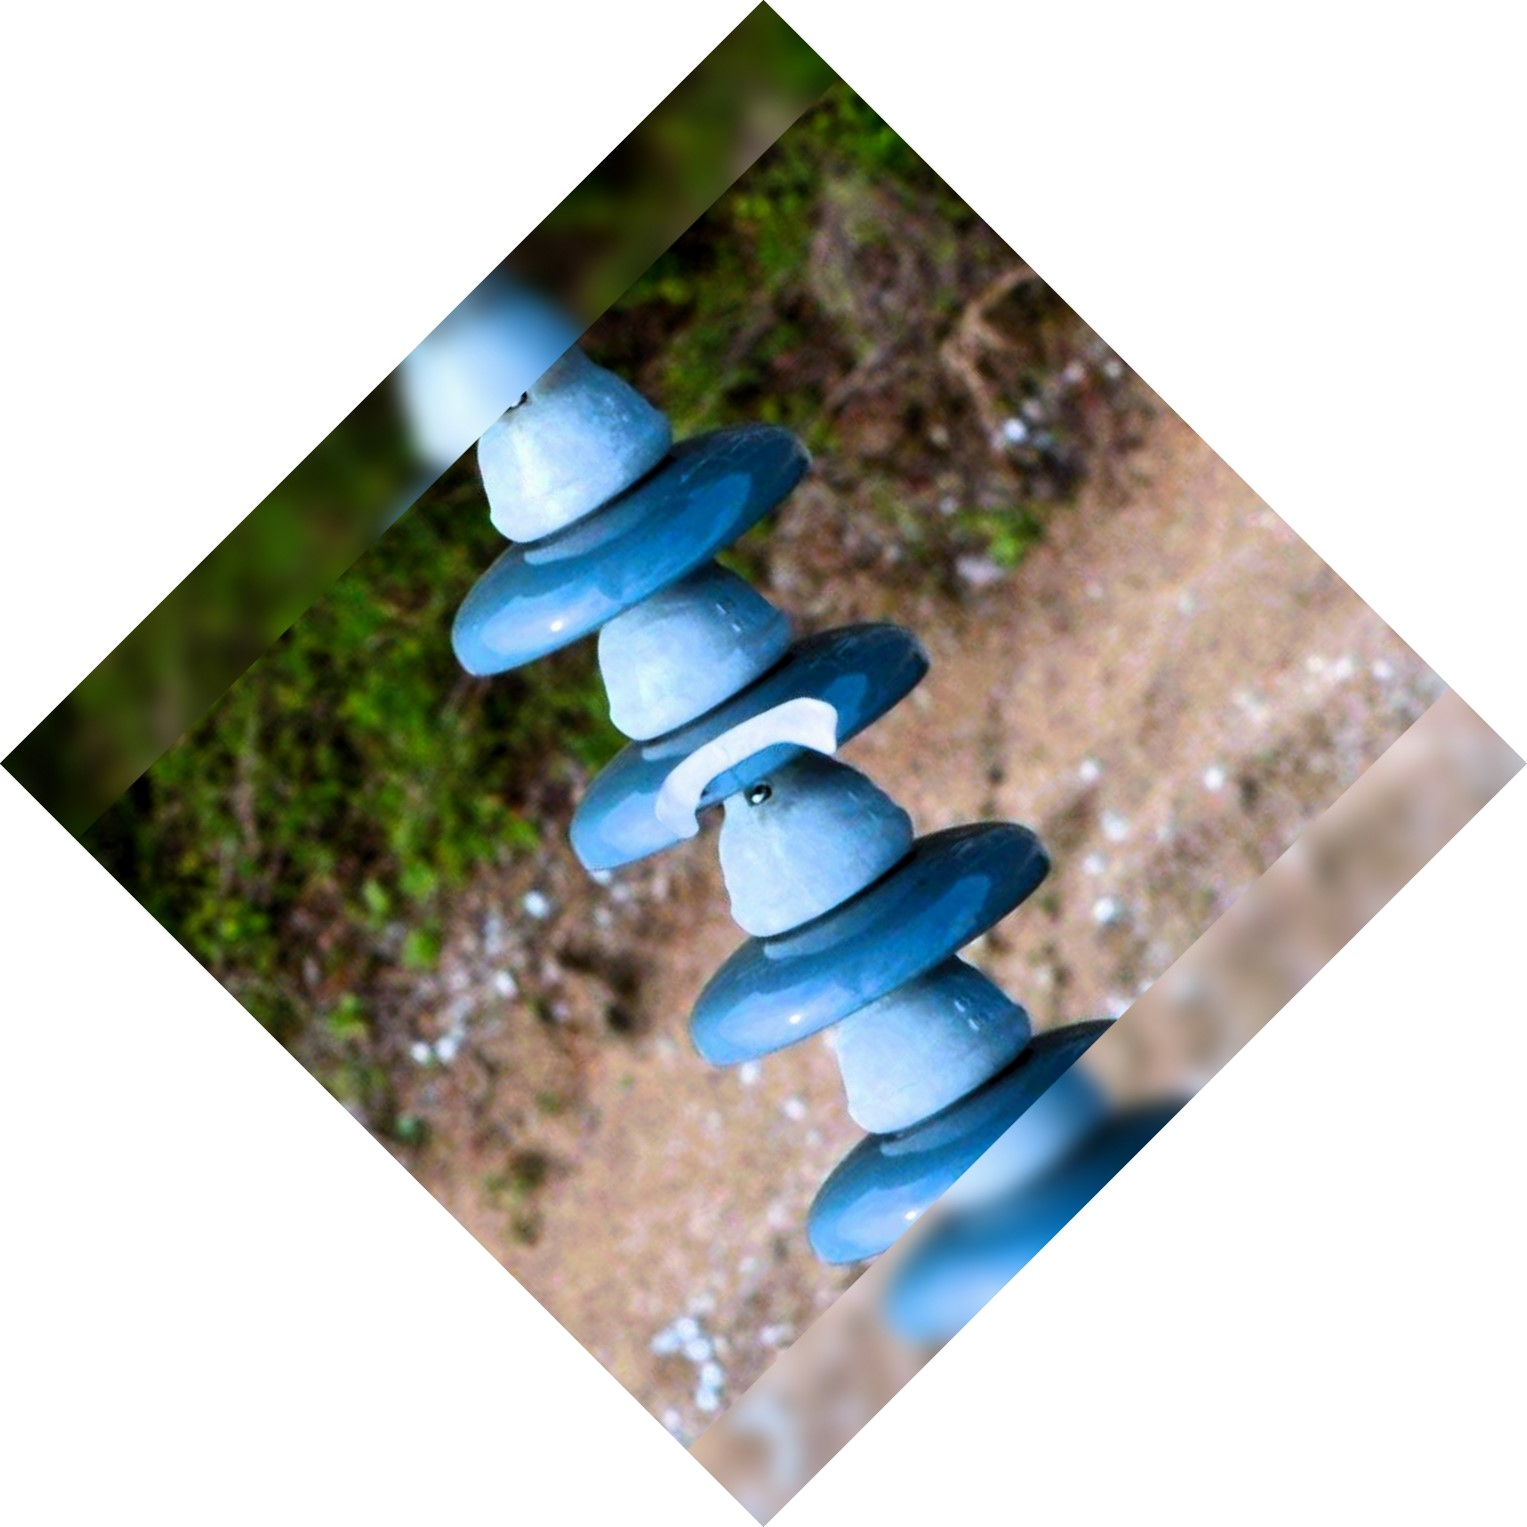insulator breakage: (562, 601, 940, 889)
